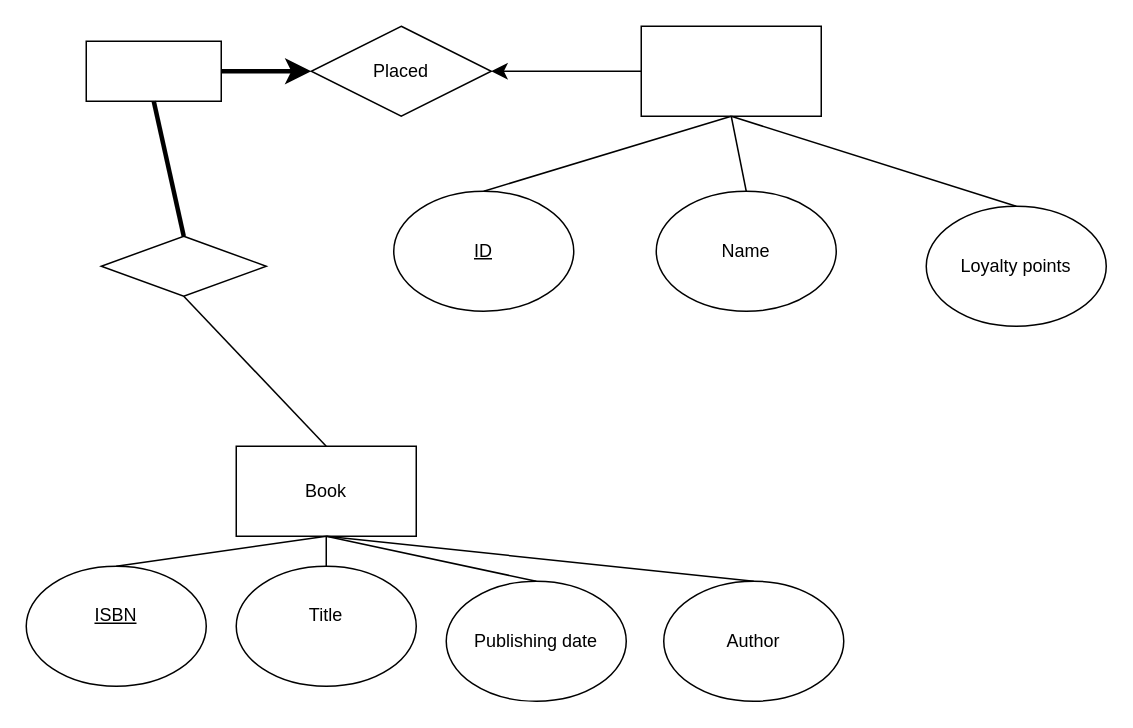
Some shapes in this 1133 by 728 pixel diagram are drawn without their labels. The centre of each missing label's shape, as x and y in pixels:
"Contains" goes at (183,265).
"Customer" goes at (730,70).
"Order" goes at (153,70).
